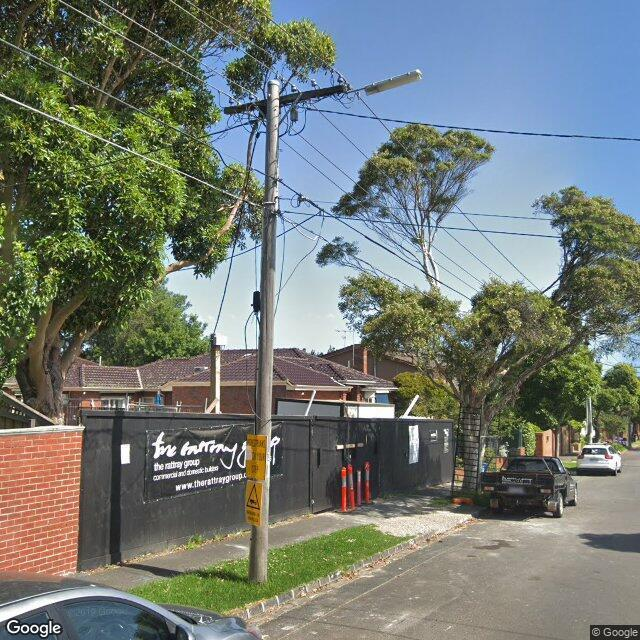crossarm: (222, 74, 348, 114)
streetlight: (348, 68, 425, 96)
timber-pole: (248, 79, 280, 586)
